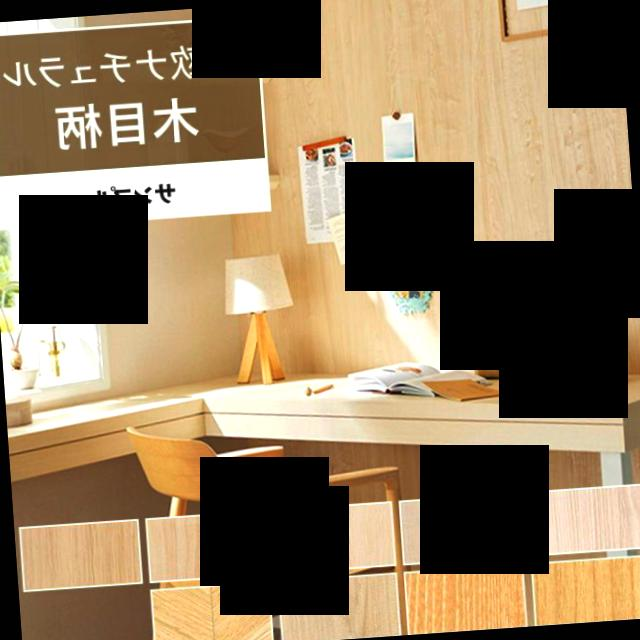natural desk: (3, 333, 640, 526)
